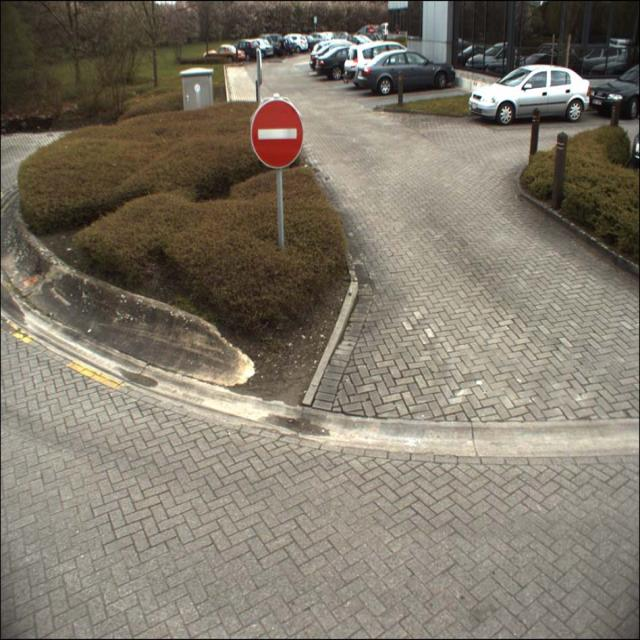girisyok: (250, 99, 302, 168)
